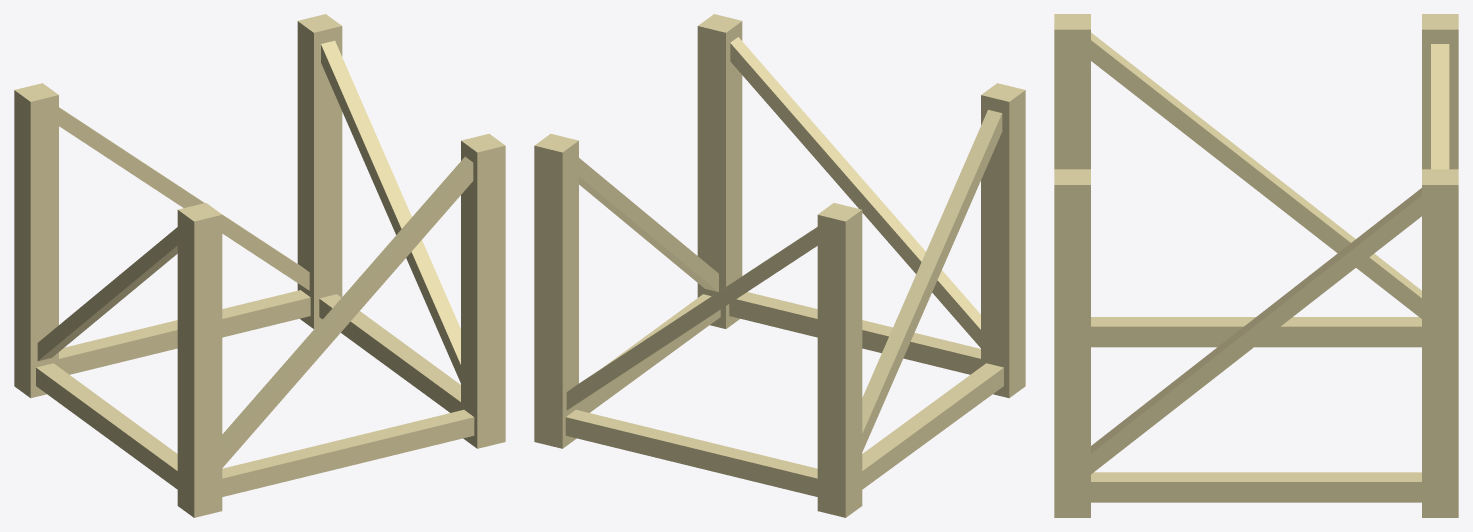
Rendered from CraneSegment.fbx.
The picture shows the model from 3 angles, left to right: view 1: azimuth 30°, elevation 25°; view 2: azimuth 150°, elevation 25°; view 3: azimuth 270°, elevation 25°; orthographic projection. The views are drawn at different scales.
Parts seen in each view (by area): view 1: polySurface32; view 2: polySurface32; view 3: polySurface32.
Part boxes in pixels (left/top/right/bottom): polySurface32: left=14, top=14, right=505, bottom=517; polySurface32: left=534, top=14, right=1025, bottom=517; polySurface32: left=1054, top=14, right=1458, bottom=517.
Size of the model in its own units: 4.4 by 4 by 4.4.
